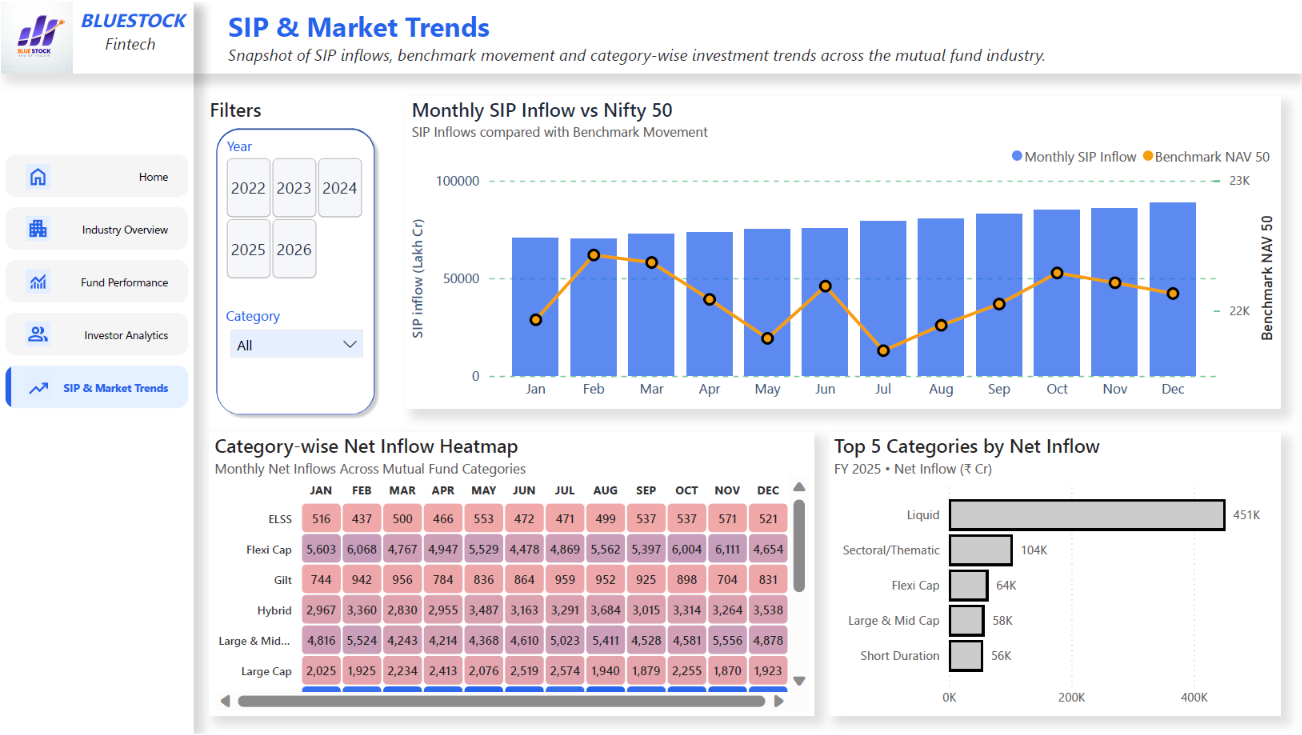

Layout of this report page (visuals, bound fields, positions):
{"tool":"powerbi","page":{"name":"SIP & Market Trends","canvas":[1280,720],"ordinal":4},"visuals":[{"type":"shape","box":[0,0,1280,70],"z":0},{"type":"pageNavigator","box":[5,150,180,250],"z":0,"group":"g1"},{"type":"shape","box":[0,0,190,720],"z":1000},{"type":"image","box":[25,160,24,24],"z":1000,"group":"g1"},{"type":"shape","box":[0,0,190,70],"z":2000},{"type":"image","box":[25,263,24,24],"z":2000,"group":"g1"},{"type":"lineClusteredColumnComboChart","title":"Monthly SIP Inflow vs Nifty 50","fields":{"Y2":["Measure_Table.Benchmark NAV 50"],"Category":["Dim_Date.Month"],"Y":["Measure_Table.Monthly SIP Inflow"]},"box":[400,93.3,860,306.7],"z":3000},{"type":"image","box":[25,367.5,23.8,23.8],"z":3000,"group":"g1"},{"type":"image","box":[25,315,23.8,23.8],"z":4000,"group":"g1"},{"type":"clusteredBarChart","title":"Top 5 Categories by Net Inflow","fields":{"Category":["Fact_Category.category"],"Y":["Measure_Table.Category Net Inflow"]},"box":[816,424.3,444.4,278.7],"z":4000},{"type":"group","id":"g1","title":"Group 1","box":[5,150,180,250],"z":5000},{"type":"image","box":[25,211.2,23.8,23.8],"z":5000,"group":"g1"},{"type":"textbox","box":[190,0,1090,70],"z":6000},{"type":"shape","title":"Filters","box":[206.2,92.5,170,320],"z":7000},{"type":"advancedSlicerVisual","fields":{"Values":["Dim_Date.Year"]},"box":[218.3,133.3,145,145],"z":8000},{"type":"slicer","title":"Category","fields":{"Values":["Fact_Category.category"]},"box":[216.7,300,150,66.7],"z":9000},{"type":"textbox","box":[48.8,0,141.2,70],"z":10000},{"type":"image","box":[0,0,71.2,70],"z":11000},{"type":"codexHeatmapMatrixD1E2F3A4B5C6D7E8F9A0B1C2D3E4F5A6","title":"Category-wise Net Inflow Heatmap","fields":{"rowCategory":["Fact_Category.category"],"columnCategory":["Dim_Date.Month"],"cellValue":["Measure_Table.Category Net Inflow"],"sortOrder":["Sum(Dim_Date.Month Number)"]},"box":[205.9,424.3,594.6,278.7],"z":12000}]}

Visuals, with their boxes on the page's 1280x720 design canvas (x1, y1, x2, y2). These are canvas units, not pixel positions in the 1302x735 screenshot, which may show the page scaled, cropped or inside an application window:
shape: select_region(0, 0, 1280, 70)
pageNavigator: select_region(5, 150, 185, 400)
shape: select_region(0, 0, 190, 720)
image: select_region(25, 160, 49, 184)
shape: select_region(0, 0, 190, 70)
image: select_region(25, 263, 49, 287)
"Monthly SIP Inflow vs Nifty 50" lineClusteredColumnComboChart: select_region(400, 93, 1260, 400)
image: select_region(25, 368, 49, 391)
image: select_region(25, 315, 49, 339)
"Top 5 Categories by Net Inflow" clusteredBarChart: select_region(816, 424, 1260, 703)
"Group 1" group: select_region(5, 150, 185, 400)
image: select_region(25, 211, 49, 235)
textbox: select_region(190, 0, 1280, 70)
"Filters" shape: select_region(206, 92, 376, 412)
advancedSlicerVisual - Dim_Date.Year: select_region(218, 133, 363, 278)
"Category" slicer: select_region(217, 300, 367, 367)
textbox: select_region(49, 0, 190, 70)
image: select_region(0, 0, 71, 70)
"Category-wise Net Inflow Heatmap" codexHeatmapMatrixD1E2F3A4B5C6D7E8F9A0B1C2D3E4F5A6: select_region(206, 424, 800, 703)
